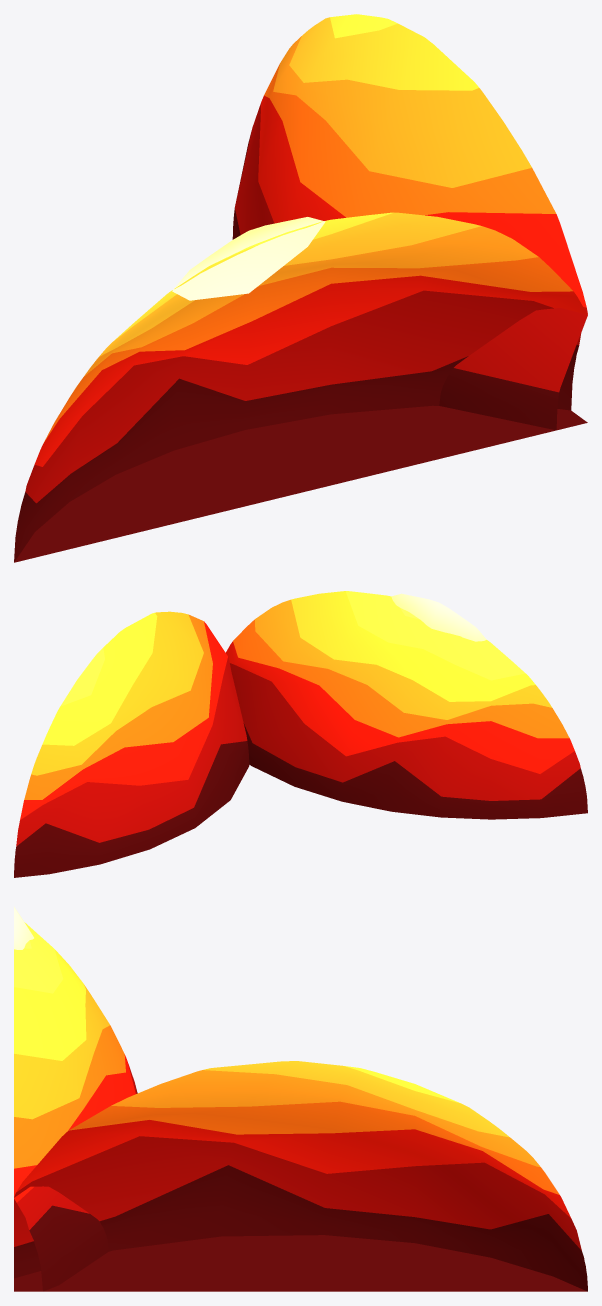
File: shot_charge_b185.glb
3 renders of one model, top to bottom at view 1: azimuth 30°, elevation 25°; view 2: azimuth 150°, elevation 25°; view 3: azimuth 270°, elevation 25°, orthographic. The views are drawn at different scales.
Parts seen in each view (by area): view 1: charge_twin2_b_fire_shot_charge_b185, charge_twin2_a_fire_shot_charge_b185, charge_twin2_b_core_shot_charge_b185; view 2: charge_twin2_b_fire_shot_charge_b185, charge_twin2_a_fire_shot_charge_b185, charge_twin2_b_core_shot_charge_b185; view 3: charge_twin2_a_fire_shot_charge_b185, charge_twin2_b_fire_shot_charge_b185, charge_twin2_b_core_shot_charge_b185.
Boxes of the visible parts, left/top/right/bottom form: charge_twin2_b_fire_shot_charge_b185: left=14, top=212, right=587, bottom=562; charge_twin2_a_fire_shot_charge_b185: left=232, top=14, right=587, bottom=430; charge_twin2_b_core_shot_charge_b185: left=172, top=217, right=325, bottom=300; charge_twin2_b_fire_shot_charge_b185: left=226, top=591, right=587, bottom=819; charge_twin2_a_fire_shot_charge_b185: left=14, top=611, right=249, bottom=877; charge_twin2_b_core_shot_charge_b185: left=391, top=593, right=486, bottom=641; charge_twin2_a_fire_shot_charge_b185: left=14, top=1061, right=587, bottom=1291; charge_twin2_b_fire_shot_charge_b185: left=14, top=922, right=137, bottom=1291; charge_twin2_b_core_shot_charge_b185: left=14, top=906, right=33, bottom=949.
Size of the model in its own units: 8.46 by 3.89 by 8.45.
